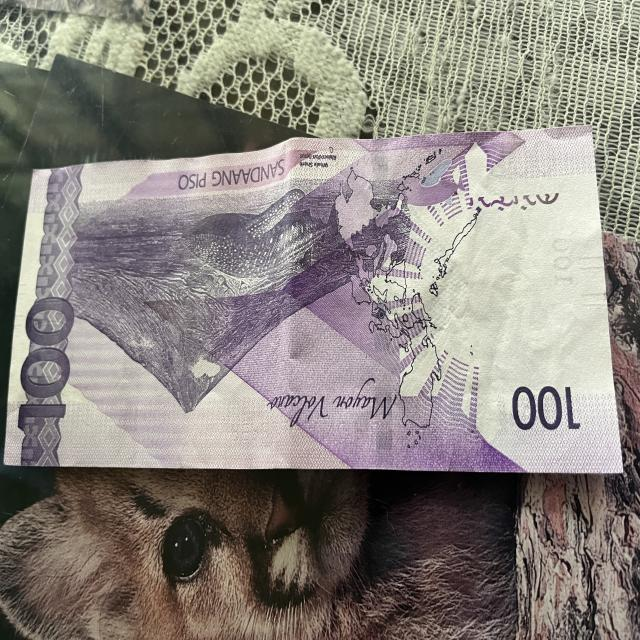security_thread: (369, 136, 392, 468)
see_through_mark: (462, 188, 560, 214)
value_watermark: (551, 235, 574, 291)
watermark: (468, 211, 584, 386)
